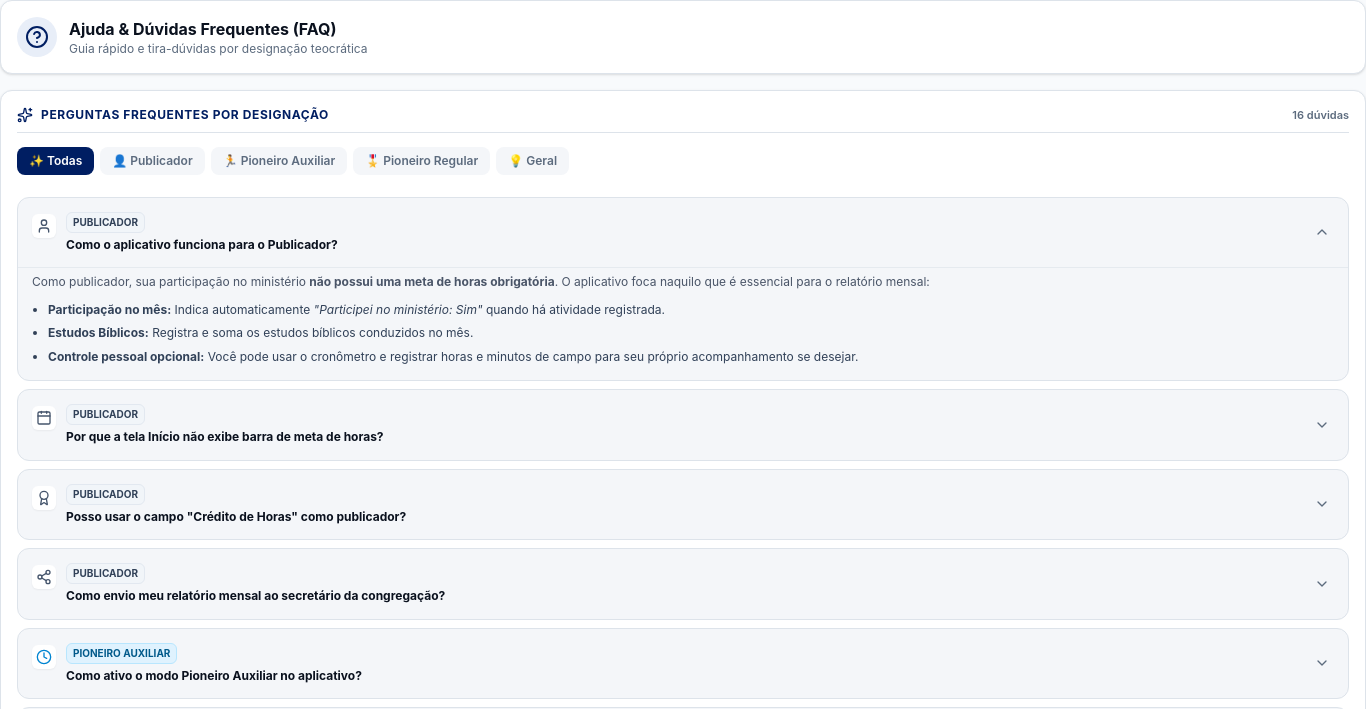
it: HelpView - FAQ por Designação › deve permitir filtrar dúvidas de Pioneiro Regular e alternar expansão do acordeão
Clica no filtro de Pioneiro Regular
Click the button "🎖️ Pioneiro Regular": (422, 160) [353,146,490,174]
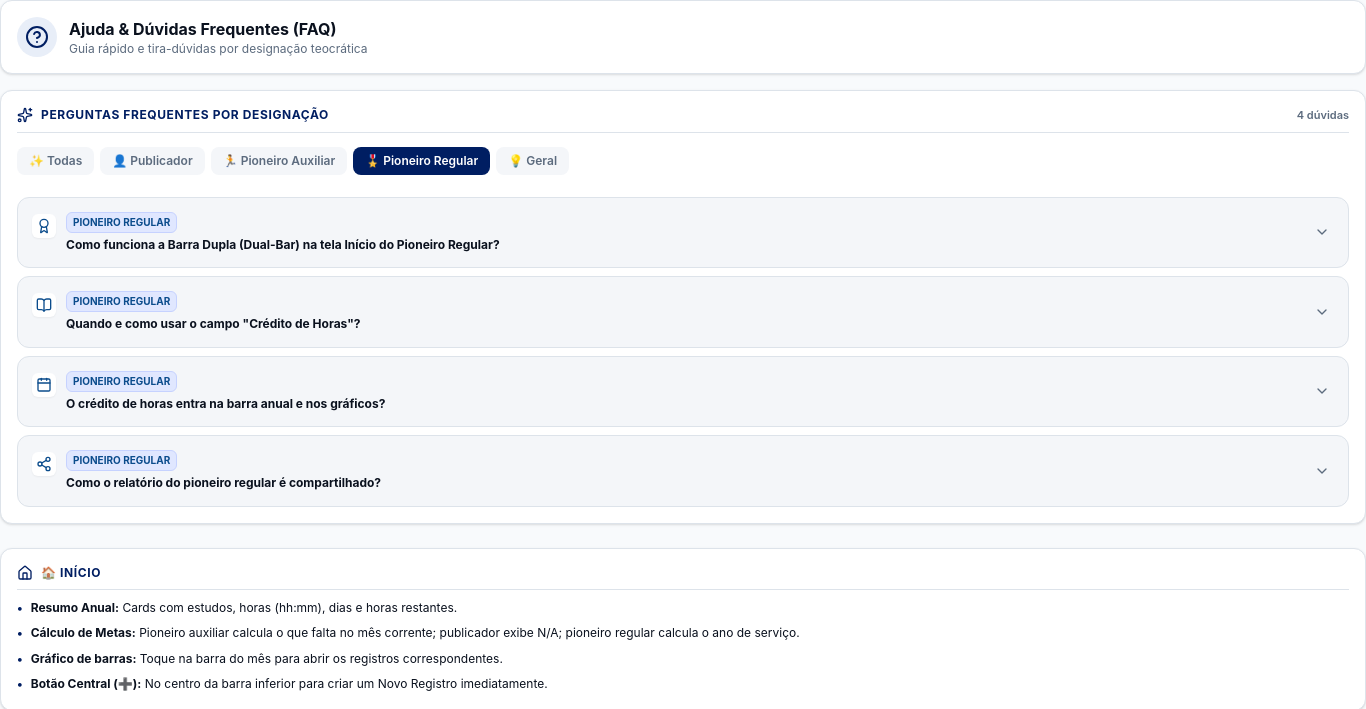
Expande a pergunta clicando nela
Click the heading "Como funciona a Barra Dupla (Dual-Bar) na tela Início do Pioneiro Regular?": (283, 245) [66,236,500,253]
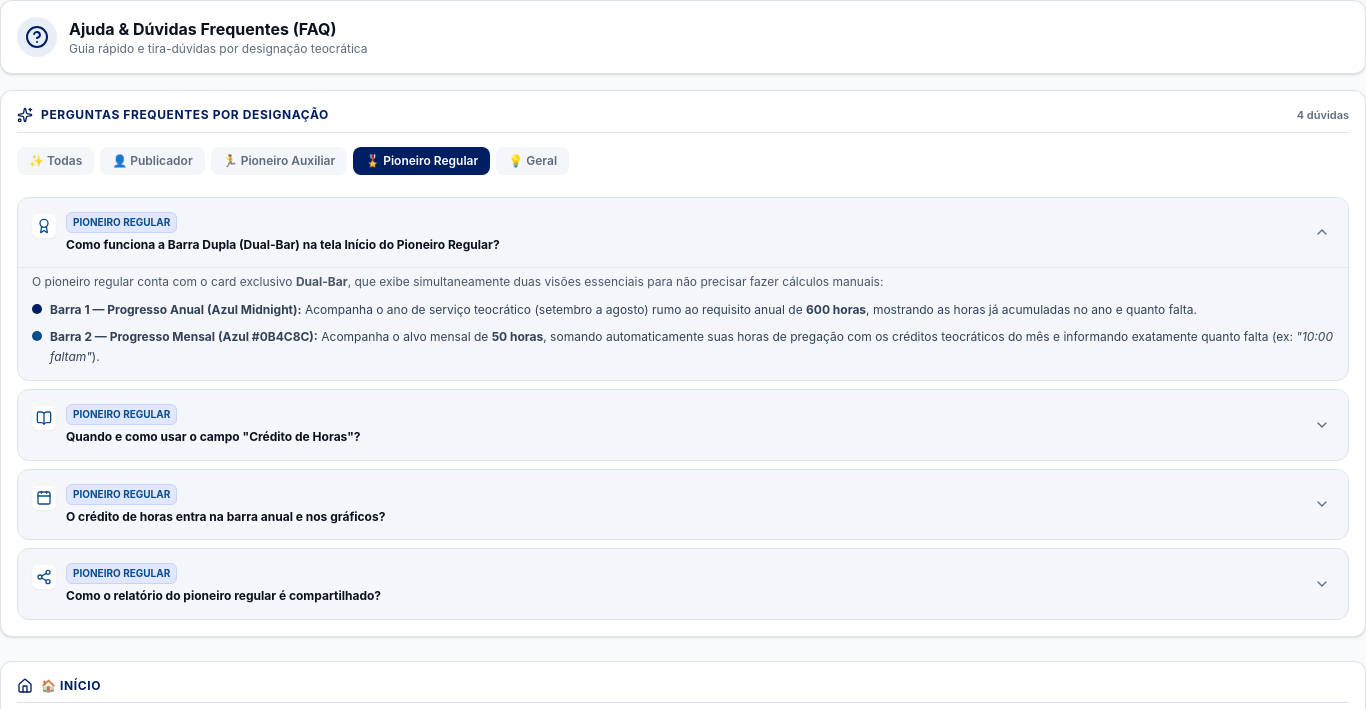
Expected: the text "Barra 1 — Progresso Anual (Azul Midnight):" is shown, [50,302,302,316]
Expected: the text "Barra 2 — Progresso Mensal (Azul #0B4C8C):" is shown, [50,329,318,344]
